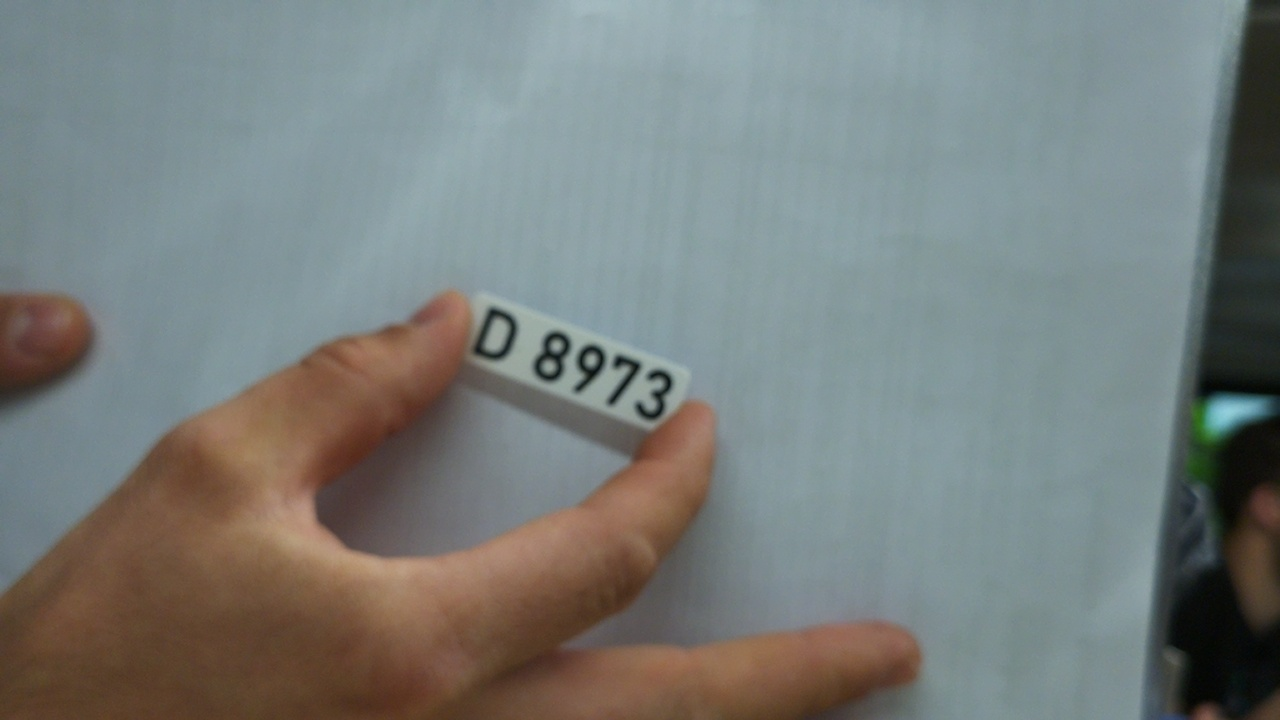license_plate: (456, 290, 696, 436)
